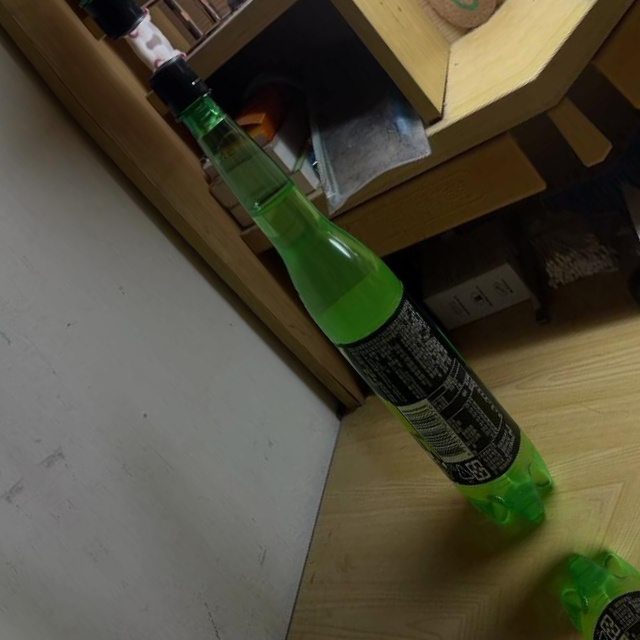Mountain-Dew: (119, 31, 581, 555)
